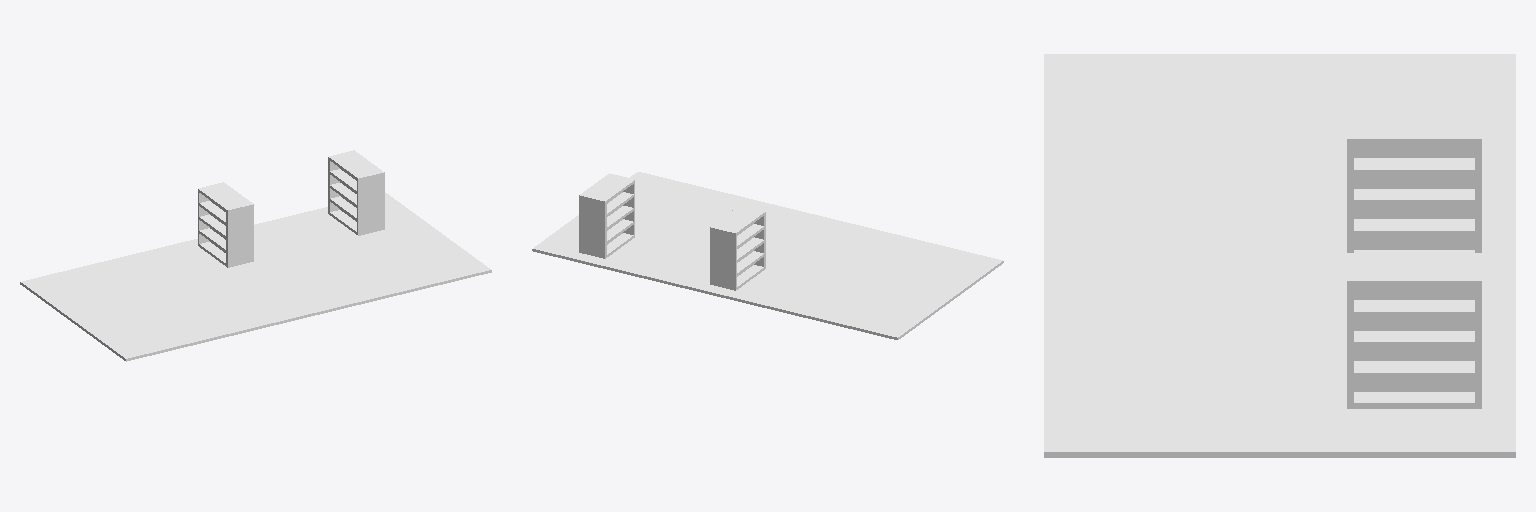
The robot description file, URDF, robot "library_world_assm":
<?xml version="1.0" encoding="utf-8"?>
<!-- This URDF was automatically created by SolidWorks to URDF Exporter! Originally created by [author] ([email redacted]) 
     Commit Version: 1.6.0-4-g7f85cfe  Build Version: 1.6.7995.38578
     For more information, please see http://wiki.ros.org/sw_urdf_exporter -->
<robot
  name="library_world_assm">
  <link
    name="base_link">
    <inertial>
      <origin
        xyz="3.39864191211783E-16 9.8187038657449E-16 0.05"
        rpy="0 0 0" />
      <mass
        value="3332" />
      <inertia
        ixx="13608.4433333333"
        ixy="-2.25478894814538E-12"
        ixz="-3.24125911295898E-14"
        iyy="54425.4433333333"
        iyz="8.32909276217345E-13"
        izz="68028.3333333333" />
    </inertial>
    <visual>
      <origin
        xyz="0 0 0"
        rpy="0 0 0" />
      <geometry>
        <mesh
          filename="package://library_world_assm/meshes/base_link.STL" />
      </geometry>
      <material
        name="">
        <color
          rgba="1 1 1 1" />
      </material>
    </visual>
    <collision>
      <origin
        xyz="0 0 0"
        rpy="0 0 0" />
      <geometry>
        <mesh
          filename="package://library_world_assm/meshes/base_link.STL" />
      </geometry>
    </collision>
  </link>
  <link
    name="1l">
    <inertial>
      <origin
        xyz="-2.22044604925031E-15 1.05 -1.33226762955019E-15"
        rpy="0 0 0" />
      <mass
        value="644.639999999999" />
      <inertia
        ixx="307.598"
        ixy="-1.67498945213615E-13"
        ixz="-4.25983708894243E-14"
        iyy="302.5456"
        iyz="9.15393856703319E-14"
        izz="534.038000000001" />
    </inertial>
    <visual>
      <origin
        xyz="0 0 0"
        rpy="0 0 0" />
      <geometry>
        <mesh
          filename="package://library_world_assm/meshes/1l.STL" />
      </geometry>
      <material
        name="">
        <color
          rgba="1 1 1 1" />
      </material>
    </visual>
    <collision>
      <origin
        xyz="0 0 0"
        rpy="0 0 0" />
      <geometry>
        <mesh
          filename="package://library_world_assm/meshes/1l.STL" />
      </geometry>
    </collision>
  </link>
  <joint
    name="1j"
    type="fixed">
    <origin
      xyz="-2.5 2 2.2"
      rpy="-1.5708 0 1.5708" />
    <parent
      link="base_link" />
    <child
      link="1l" />
    <axis
      xyz="0 0 0" />
  </joint>
  <link
    name="2l">
    <inertial>
      <origin
        xyz="-2.22044604925031E-15 1.05 -1.33226762955019E-15"
        rpy="0 0 0" />
      <mass
        value="644.639999999999" />
      <inertia
        ixx="307.598000000001"
        ixy="-1.91244203150842E-13"
        ixz="-6.33469817748399E-14"
        iyy="302.545600000001"
        iyz="9.91611306955242E-14"
        izz="534.038000000001" />
    </inertial>
    <visual>
      <origin
        xyz="0 0 0"
        rpy="0 0 0" />
      <geometry>
        <mesh
          filename="package://library_world_assm/meshes/2l.STL" />
      </geometry>
      <material
        name="">
        <color
          rgba="1 1 1 1" />
      </material>
    </visual>
    <collision>
      <origin
        xyz="0 0 0"
        rpy="0 0 0" />
      <geometry>
        <mesh
          filename="package://library_world_assm/meshes/2l.STL" />
      </geometry>
    </collision>
  </link>
  <joint
    name="2j"
    type="fixed">
    <origin
      xyz="-2.5 -2 2.2"
      rpy="-1.5708 0 1.5708" />
    <parent
      link="base_link" />
    <child
      link="2l" />
    <axis
      xyz="0 0 0" />
  </joint>
  <link
    name="3l">
    <inertial>
      <origin
        xyz="-2.66453525910038E-15 1.05 -1.02767174540806E-15"
        rpy="0 0 0" />
      <mass
        value="644.64" />
      <inertia
        ixx="307.598"
        ixy="-1.76717319083766E-13"
        ixz="-5.39706280335702E-14"
        iyy="302.5456"
        iyz="6.13018028483216E-14"
        izz="534.038" />
    </inertial>
    <visual>
      <origin
        xyz="0 0 0"
        rpy="0 0 0" />
      <geometry>
        <mesh
          filename="package://library_world_assm/meshes/3l.STL" />
      </geometry>
      <material
        name="">
        <color
          rgba="1 1 1 1" />
      </material>
    </visual>
    <collision>
      <origin
        xyz="0 0 0"
        rpy="0 0 0" />
      <geometry>
        <mesh
          filename="package://library_world_assm/meshes/3l.STL" />
      </geometry>
    </collision>
  </link>
  <joint
    name="3j"
    type="fixed">
    <origin
      xyz="0 2 2.2"
      rpy="-1.5707963267949 0 1.5707963267949" />
    <parent
      link="base_link" />
    <child
      link="3l" />
    <axis
      xyz="0 0 0" />
  </joint>
  <link
    name="4l">
    <inertial>
      <origin
        xyz="-2.22044604925031E-15 1.05 -1.48754364511076E-15"
        rpy="0 0 0" />
      <mass
        value="644.64" />
      <inertia
        ixx="307.598000000001"
        ixy="-1.93546257909461E-13"
        ixz="-8.45961949153143E-14"
        iyy="302.545600000001"
        iyz="6.28500435506309E-14"
        izz="534.038000000001" />
    </inertial>
    <visual>
      <origin
        xyz="0 0 0"
        rpy="0 0 0" />
      <geometry>
        <mesh
          filename="package://library_world_assm/meshes/4l.STL" />
      </geometry>
      <material
        name="">
        <color
          rgba="1 1 1 1" />
      </material>
    </visual>
    <collision>
      <origin
        xyz="0 0 0"
        rpy="0 0 0" />
      <geometry>
        <mesh
          filename="package://library_world_assm/meshes/4l.STL" />
      </geometry>
    </collision>
  </link>
  <joint
    name="4j"
    type="fixed">
    <origin
      xyz="0 -2 2.2"
      rpy="-1.5708 0 1.5708" />
    <parent
      link="base_link" />
    <child
      link="4l" />
    <axis
      xyz="0 0 0" />
  </joint>
  <link
    name="5l">
    <inertial>
      <origin
        xyz="-2.22044604925031E-15 1.05 -1.33226762955019E-15"
        rpy="0 0 0" />
      <mass
        value="644.639999999999" />
      <inertia
        ixx="307.598"
        ixy="-1.67532059654979E-13"
        ixz="-4.20913283700142E-14"
        iyy="302.5456"
        iyz="8.70148137571691E-14"
        izz="534.038000000001" />
    </inertial>
    <visual>
      <origin
        xyz="0 0 0"
        rpy="0 0 0" />
      <geometry>
        <mesh
          filename="package://library_world_assm/meshes/5l.STL" />
      </geometry>
      <material
        name="">
        <color
          rgba="1 1 1 1" />
      </material>
    </visual>
    <collision>
      <origin
        xyz="0 0 0"
        rpy="0 0 0" />
      <geometry>
        <mesh
          filename="package://library_world_assm/meshes/5l.STL" />
      </geometry>
    </collision>
  </link>
  <joint
    name="5j"
    type="fixed">
    <origin
      xyz="2.5 2 2.2"
      rpy="-1.5708 0 1.5708" />
    <parent
      link="base_link" />
    <child
      link="5l" />
    <axis
      xyz="0 0 0" />
  </joint>
  <link
    name="6l">
    <inertial>
      <origin
        xyz="-2.66453525910038E-15 1.05 -1.77635683940025E-15"
        rpy="0 0 0" />
      <mass
        value="644.64" />
      <inertia
        ixx="307.598000000001"
        ixy="-1.90806954398669E-13"
        ixz="-6.32301673710813E-14"
        iyy="302.545600000001"
        iyz="9.20097331658098E-14"
        izz="534.038000000001" />
    </inertial>
    <visual>
      <origin
        xyz="0 0 0"
        rpy="0 0 0" />
      <geometry>
        <mesh
          filename="package://library_world_assm/meshes/6l.STL" />
      </geometry>
      <material
        name="">
        <color
          rgba="1 1 1 1" />
      </material>
    </visual>
    <collision>
      <origin
        xyz="0 0 0"
        rpy="0 0 0" />
      <geometry>
        <mesh
          filename="package://library_world_assm/meshes/6l.STL" />
      </geometry>
    </collision>
  </link>
  <joint
    name="6j"
    type="fixed">
    <origin
      xyz="2.5 -2 2.2"
      rpy="-1.5708 0 1.5708" />
    <parent
      link="base_link" />
    <child
      link="6l" />
    <axis
      xyz="0 0 0" />
  </joint>
  <link
    name="7l">
    <inertial>
      <origin
        xyz="-2.22044604925031E-15 1.05 -8.88178419700125E-16"
        rpy="0 0 0" />
      <mass
        value="644.639999999999" />
      <inertia
        ixx="307.598"
        ixy="-1.7016288530343E-13"
        ixz="-4.21379219844953E-14"
        iyy="302.5456"
        iyz="9.06504146920561E-14"
        izz="534.038" />
    </inertial>
    <visual>
      <origin
        xyz="0 0 0"
        rpy="0 0 0" />
      <geometry>
        <mesh
          filename="package://library_world_assm/meshes/7l.STL" />
      </geometry>
      <material
        name="">
        <color
          rgba="1 1 1 1" />
      </material>
    </visual>
    <collision>
      <origin
        xyz="0 0 0"
        rpy="0 0 0" />
      <geometry>
        <mesh
          filename="package://library_world_assm/meshes/7l.STL" />
      </geometry>
    </collision>
  </link>
  <joint
    name="7j"
    type="fixed">
    <origin
      xyz="5 2 2.2"
      rpy="-1.5708 0 1.5708" />
    <parent
      link="base_link" />
    <child
      link="7l" />
    <axis
      xyz="0 0 0" />
  </joint>
  <link
    name="8l">
    <inertial>
      <origin
        xyz="-2.22044604925031E-15 1.05 -8.88178419700125E-16"
        rpy="0 0 0" />
      <mass
        value="644.639999999999" />
      <inertia
        ixx="307.598"
        ixy="-1.94103337191476E-13"
        ixz="-6.98174509794473E-14"
        iyy="302.545600000001"
        iyz="9.43689570931383E-14"
        izz="534.038000000001" />
    </inertial>
    <visual>
      <origin
        xyz="0 0 0"
        rpy="0 0 0" />
      <geometry>
        <mesh
          filename="package://library_world_assm/meshes/8l.STL" />
      </geometry>
      <material
        name="">
        <color
          rgba="1 1 1 1" />
      </material>
    </visual>
    <collision>
      <origin
        xyz="0 0 0"
        rpy="0 0 0" />
      <geometry>
        <mesh
          filename="package://library_world_assm/meshes/8l.STL" />
      </geometry>
    </collision>
  </link>
  <joint
    name="8j"
    type="fixed">
    <origin
      xyz="5 -2 2.2"
      rpy="-1.5707963267949 0 1.5707963267949" />
    <parent
      link="base_link" />
    <child
      link="8l" />
    <axis
      xyz="0 0 0" />
  </joint>
</robot>

--- Facts derived from the render (not from the file) ---
Views: 3 orthographic renders of the robot side by side, from view 1: azimuth 30°, elevation 25°; view 2: azimuth 150°, elevation 25°; view 3: azimuth 270°, elevation 25°.
Model library_world_assm with 9 links and 8 joints (8 fixed), rooted at base_link, posed all joints at 0.
Links seen in each view (by area): view 1: base_link, 7l, 3l; view 2: base_link, 3l, 7l; view 3: base_link, 7l, 3l.
Link boxes in pixels (x1,y1,x2,y2): base_link: [20, 193, 491, 361]; 7l: [328, 150, 384, 235]; 3l: [198, 182, 253, 267]; base_link: [532, 172, 1003, 339]; 3l: [710, 205, 765, 290]; 7l: [579, 173, 634, 258]; base_link: [1044, 54, 1515, 457]; 7l: [1347, 253, 1481, 408]; 3l: [1347, 111, 1481, 252].
Bounding box of the posed robot: 14 × 7 × 2.2 m (x, y, z).
Meshes: 9 distinct files referenced, 3 mesh visuals loaded (3 binary STL); not drawn: 6 (reference not matched to a file when rendering).